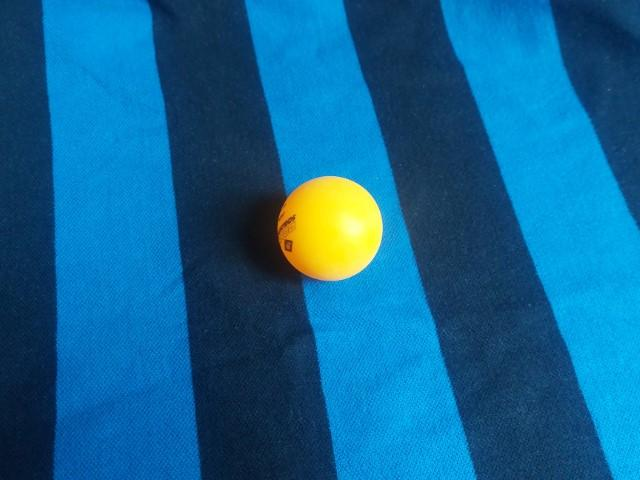oball: (250, 194, 372, 315)
